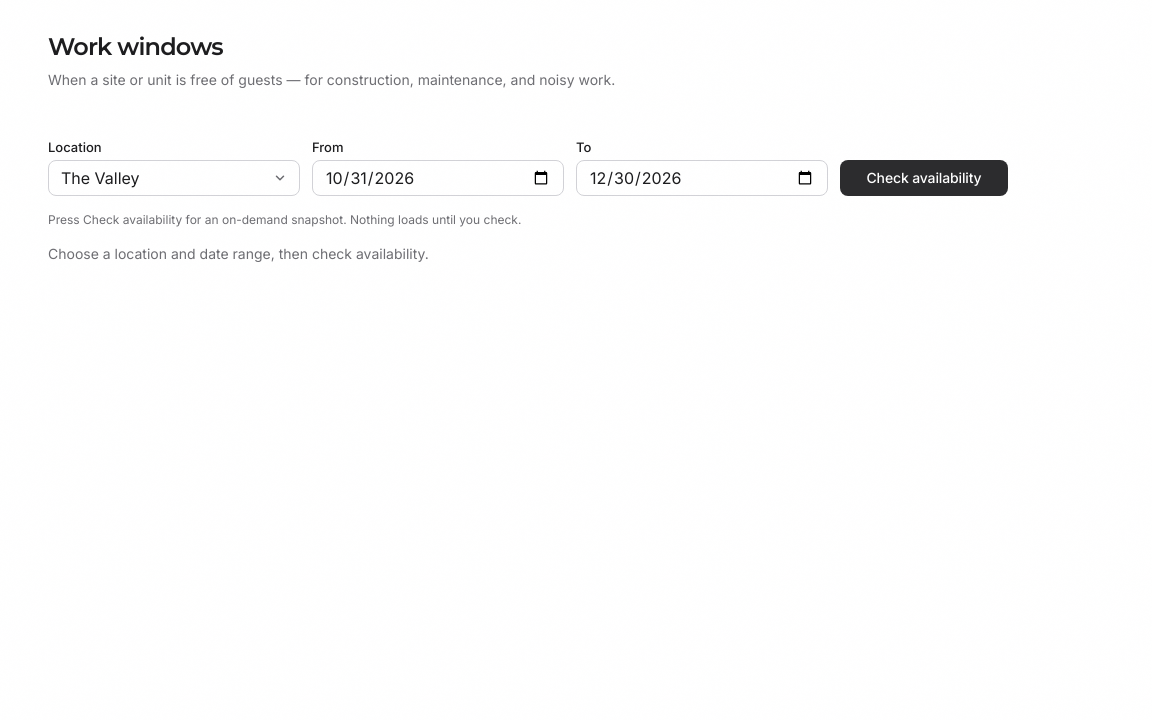
OpsWorkWindows › renders free / occupied / blocked / turnaround labels and isolates unit rows
Click the button "Check availability" at (924, 178), box [840, 160, 1008, 196]
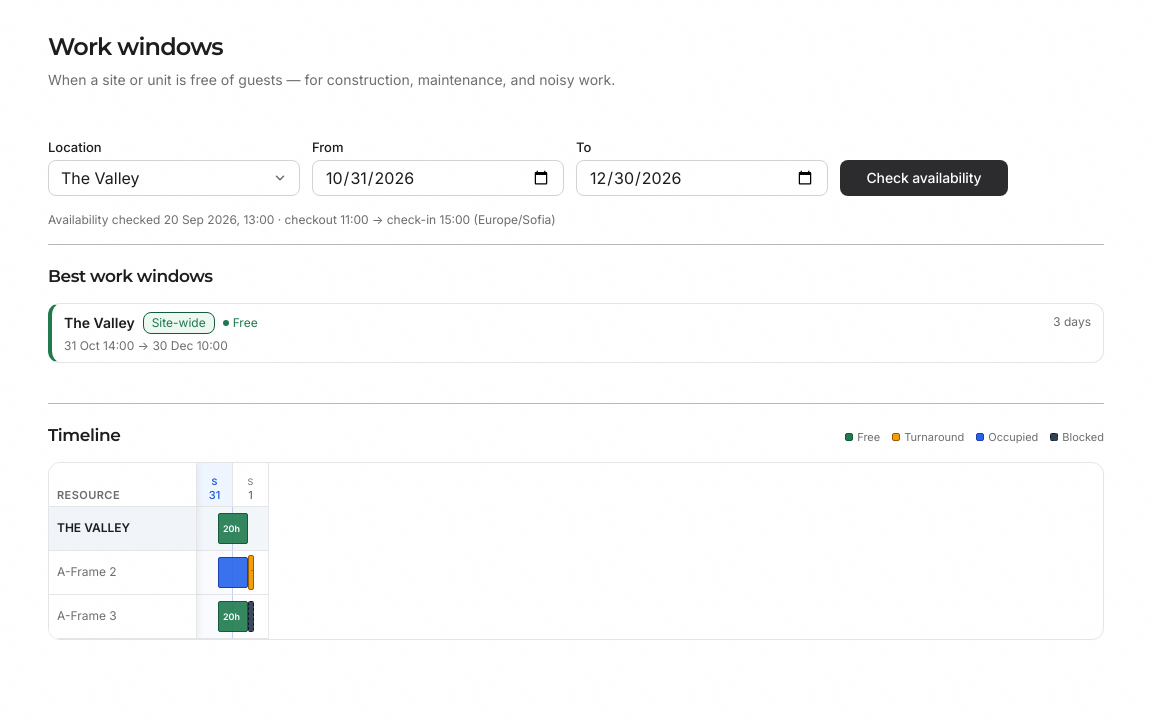
Check: the heading "Timeline" is shown, box [48, 424, 120, 446]
Check: the text "Occupied" is shown, box [976, 430, 1038, 444]
Check: the text "Blocked" is shown, box [1050, 430, 1104, 444]
